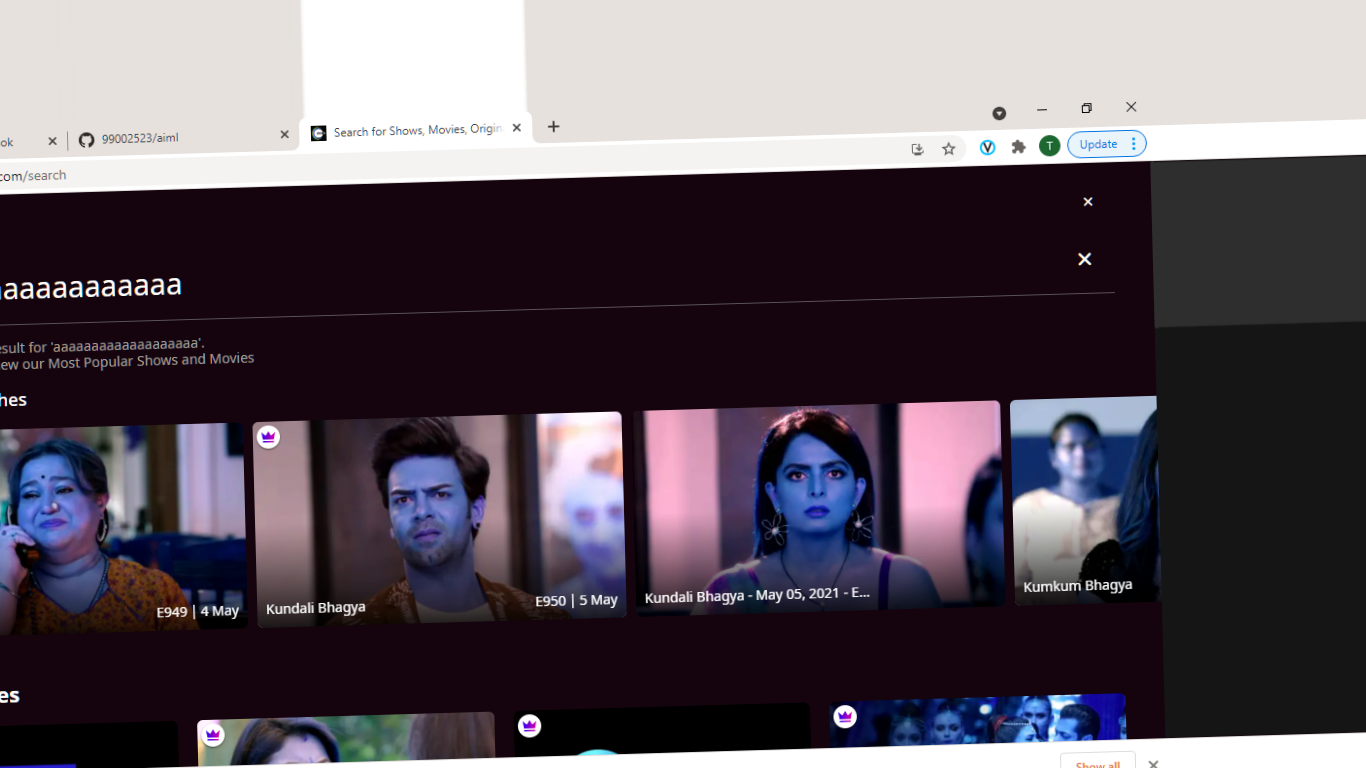noresultsfound: (1, 328, 264, 378)
searchtextbox: (1, 244, 1123, 326)
